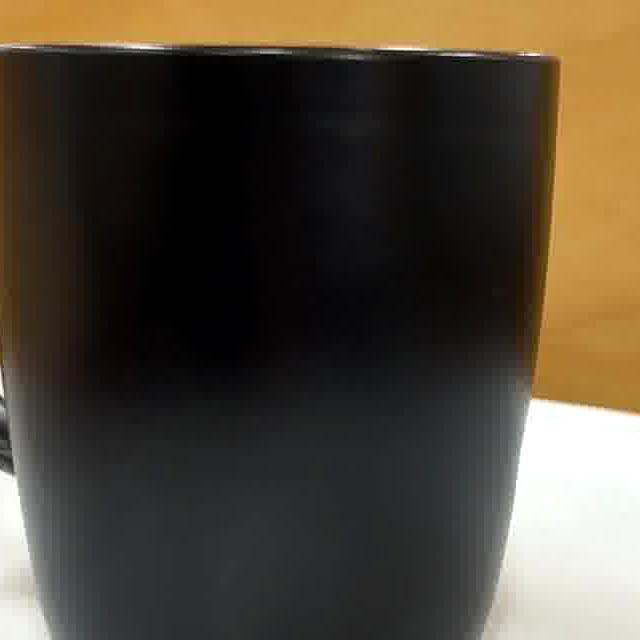cup: (0, 46, 553, 640)
